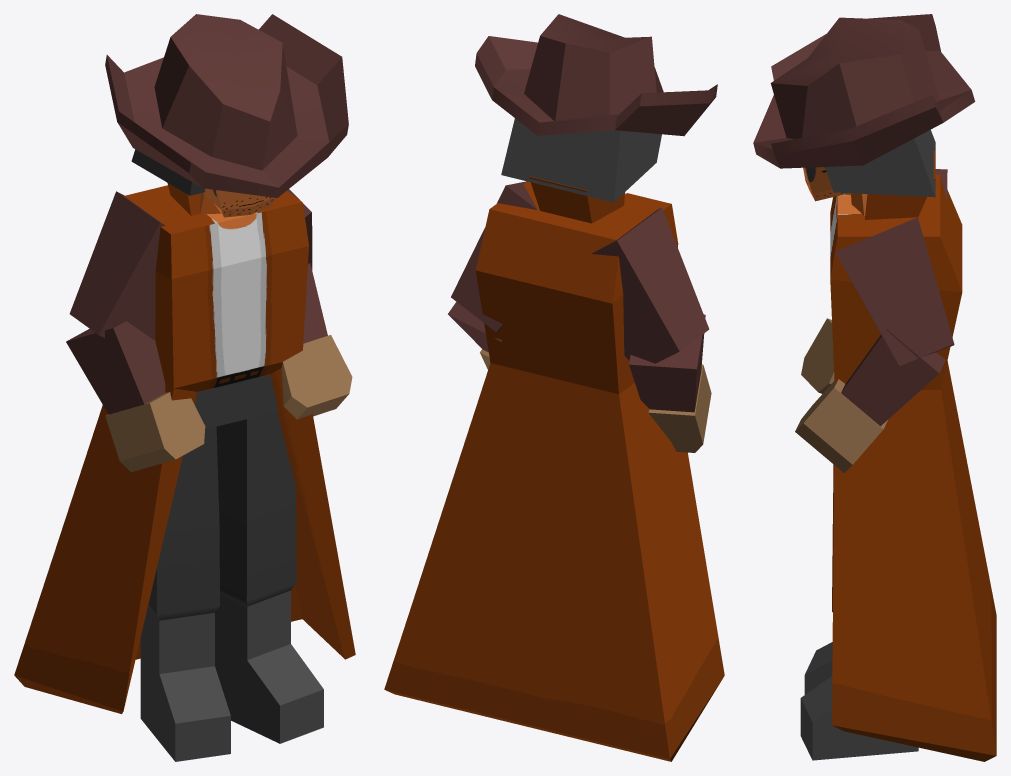
The model's file is hunter.fbx.
The picture shows the model from 3 angles, left to right: view 1: azimuth 30°, elevation 25°; view 2: azimuth 150°, elevation 25°; view 3: azimuth 270°, elevation 25°; orthographic projection.
Visible parts, largest first — view 1: torso, hat, legleft, legright, armright, forearmright, handright, handleft, head, forearmleft, pCube1; view 2: torso, hat, armright, pCube1, forearmright, handright, armleft, forearmleft; view 3: torso, hat, armleft, forearmleft, pCube1, handleft, legleft, handright, head, legright.
Part boxes in pixels (x1,y1,x2,y2): torso: (14, 183, 355, 713); hat: (105, 14, 348, 197); legleft: (215, 412, 323, 743); legright: (140, 426, 230, 761); armright: (69, 191, 165, 339); forearmright: (66, 321, 165, 414); handright: (105, 392, 205, 472); handleft: (281, 335, 352, 419); head: (199, 188, 275, 217); forearmleft: (303, 263, 327, 343); pCube1: (131, 149, 205, 195); torso: (384, 176, 724, 761); hat: (475, 14, 717, 136); armright: (591, 207, 709, 363); pCube1: (501, 118, 661, 202); forearmright: (629, 314, 705, 412); handright: (648, 364, 711, 452); armleft: (451, 181, 537, 332); forearmleft: (448, 302, 502, 352); torso: (830, 150, 996, 761); hat: (753, 14, 975, 168); armleft: (835, 217, 954, 366); forearmleft: (841, 329, 945, 426); pCube1: (825, 130, 935, 197); handleft: (795, 379, 887, 473); legleft: (800, 676, 918, 760); handright: (801, 318, 834, 393); head: (803, 167, 867, 215); legright: (804, 642, 832, 694).
Bounding box in the file's own units: 4.99 × 11.52 × 3.66.
Materials: 6 (2 with a texture image).
